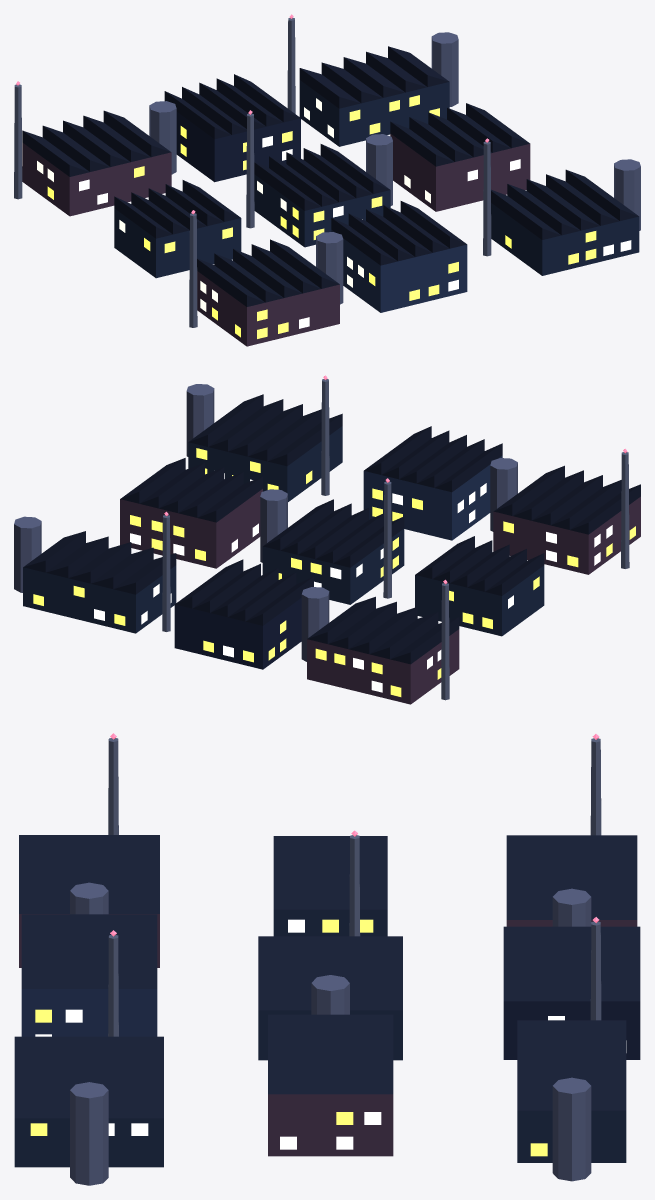
The model's file is W1_Mid_Warehouses.fbx.
3 renders of one model, top to bottom at view 1: azimuth 30°, elevation 25°; view 2: azimuth 150°, elevation 25°; view 3: azimuth 270°, elevation 25°, orthographic. The views are drawn at different scales.
Visible parts, largest first — view 1: W1_Mid_Warehouses; view 2: W1_Mid_Warehouses; view 3: W1_Mid_Warehouses.
Part boxes in pixels (x1,y1,x2,y2): W1_Mid_Warehouses: (14, 14, 640, 346); W1_Mid_Warehouses: (14, 375, 640, 704); W1_Mid_Warehouses: (14, 733, 640, 1185).
Size of the model in its own units: 116 by 29.2 by 104.
